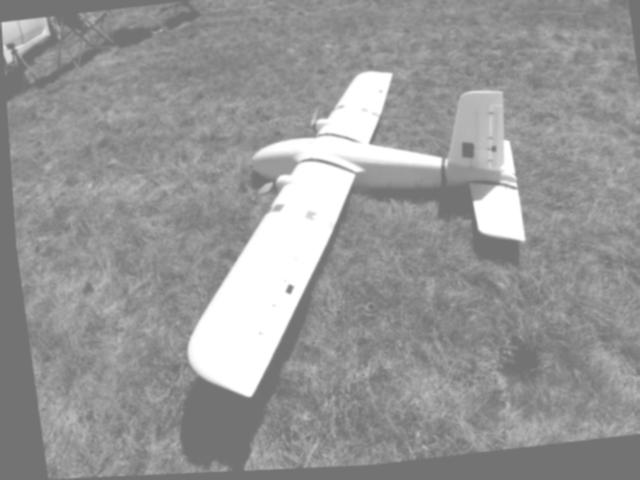hedef: (86, 16, 585, 446)
